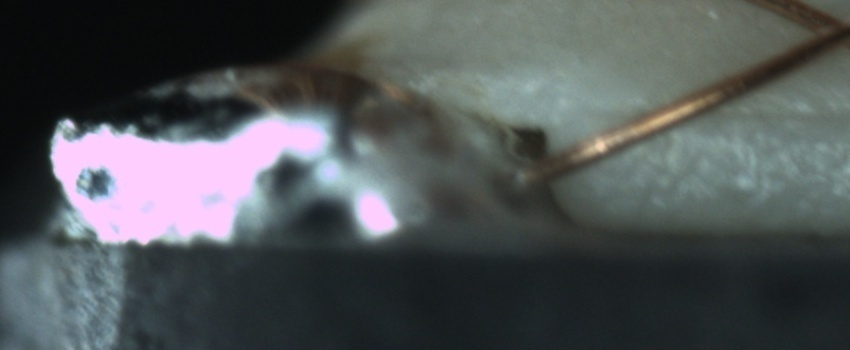CL: (794, 2, 850, 60)
DL: (617, 81, 849, 148)
